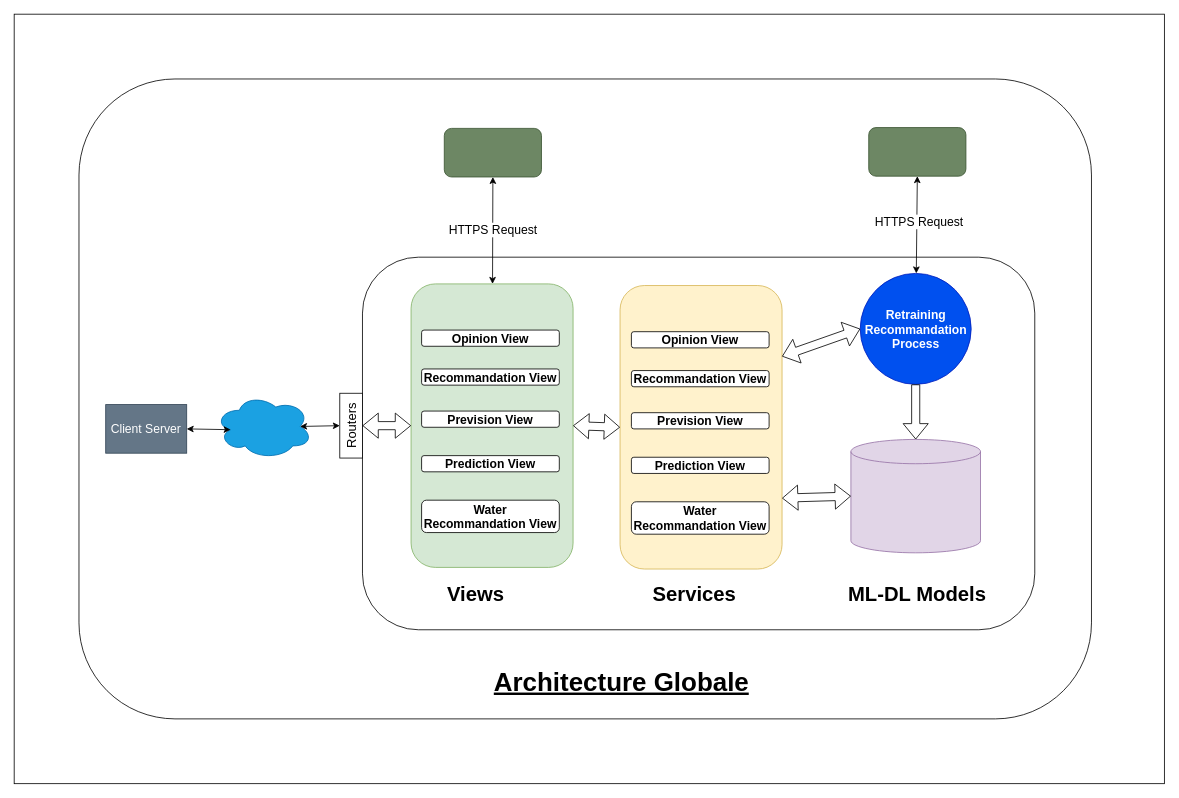
Some shapes in this 1179 by 798 pixel diagram are drawn without their labels. Each missing label, with the centre of its shape:
"ASGI Server ( uvicorn )" goes at [263,426].
"CSV and Model Files Storage" goes at [915,496].
"IOT Service" goes at [492,152].
"Rating Service" goes at [917,151].
